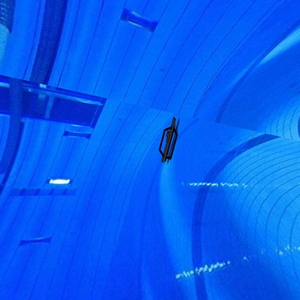submarine: (157, 113, 181, 167)
